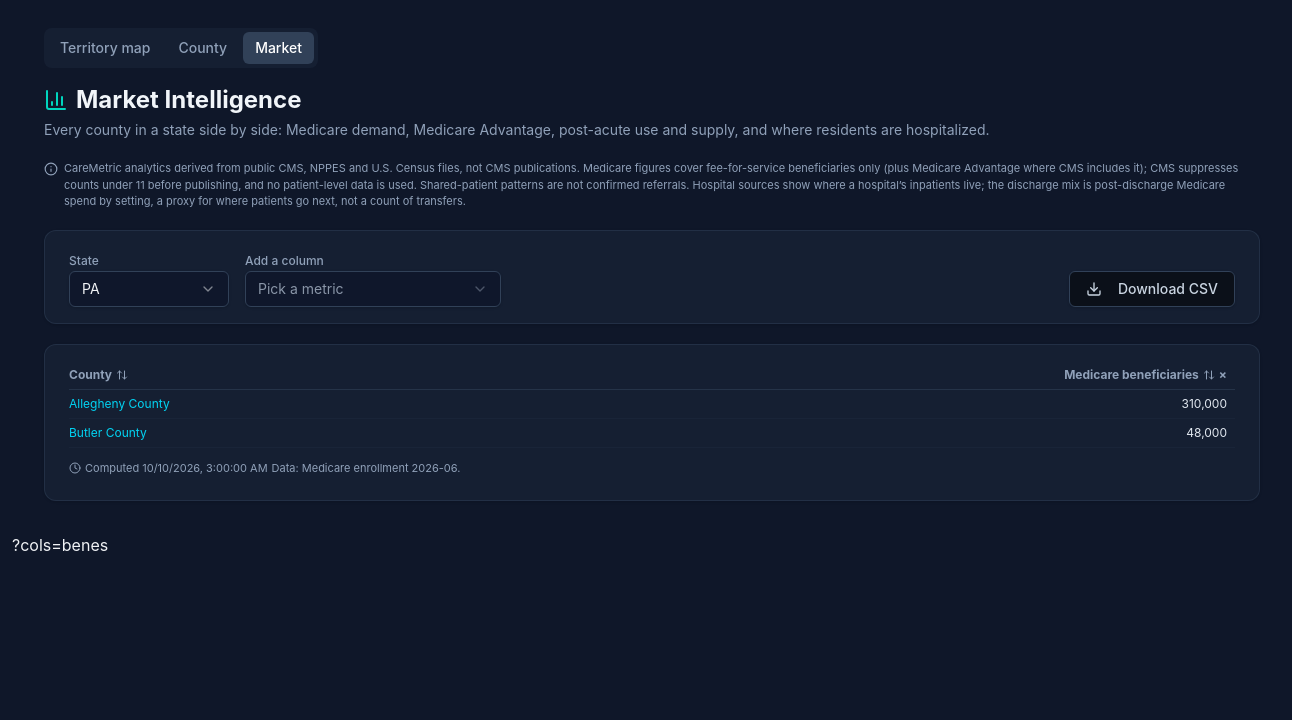
Test: MarketIntelligence › keeps "no metric columns" in the URL when the last column is removed, instead of bringing the defaults back
Expected: the link "Allegheny County" is shown, [69, 396, 170, 410]
Expected: the number of column headings is 2, [69, 360, 522, 389]; [522, 360, 1235, 389]
Click the button named "Remove Medicare beneficiaries column" at (1223, 374), box [1219, 366, 1227, 382]
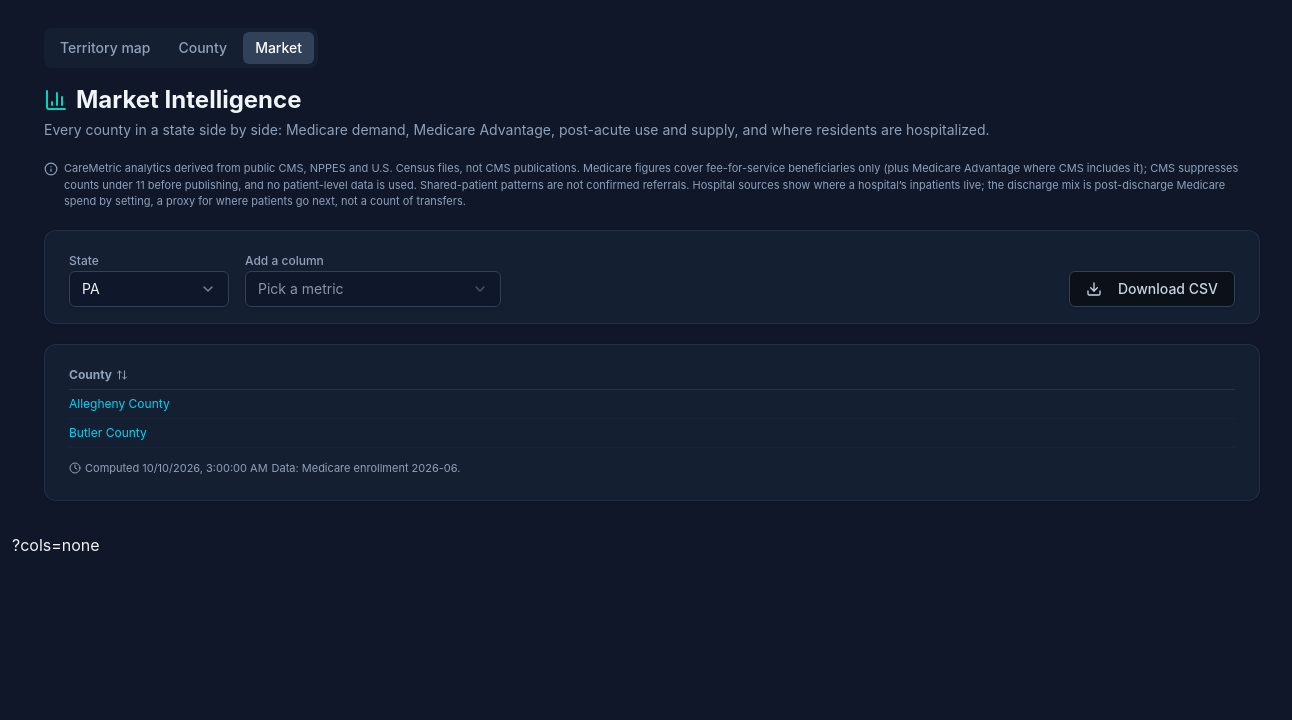
Expected: the text with test id "url" shows "cols=none", [12, 535, 100, 555]
Expected: the number of column headings is 1, [69, 360, 1235, 389]
